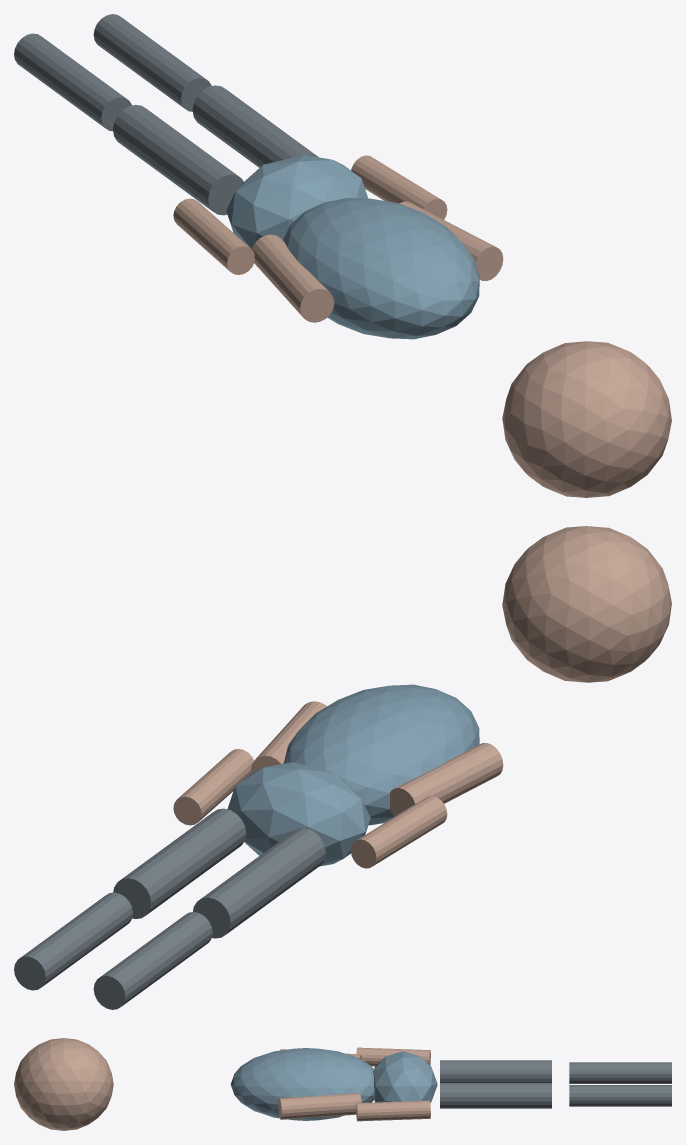
The model's file is child-medium.glb.
3 renders of one model, top to bottom at view 1: azimuth 30°, elevation 25°; view 2: azimuth 150°, elevation 25°; view 3: azimuth 270°, elevation 25°, orthographic. The views are drawn at different scales.
Parts seen in each view (by area): view 1: head, torso, pelvis, left_thigh, right_thigh, left_lower_leg, right_lower_leg, left_upper_arm, left_forearm, right_forearm, right_upper_arm; view 2: head, torso, pelvis, right_thigh, left_thigh, right_lower_leg, left_lower_leg, left_upper_arm, left_forearm, right_forearm, right_upper_arm; view 3: head, torso, right_thigh, pelvis, left_thigh, left_lower_leg, right_lower_leg, right_upper_arm, right_forearm, left_forearm.
Part boxes in pixels (bbox=[...]): head: bbox=[502, 341, 671, 497]; torso: bbox=[283, 198, 479, 339]; pelvis: bbox=[226, 154, 368, 248]; left_thigh: bbox=[113, 105, 243, 215]; right_thigh: bbox=[192, 85, 318, 167]; left_lower_leg: bbox=[14, 33, 132, 131]; right_lower_leg: bbox=[93, 14, 211, 111]; left_upper_arm: bbox=[252, 234, 334, 322]; left_forearm: bbox=[173, 198, 254, 274]; right_forearm: bbox=[351, 155, 447, 219]; right_upper_arm: bbox=[399, 201, 503, 280]; head: bbox=[502, 526, 671, 682]; torso: bbox=[283, 684, 479, 825]; pelvis: bbox=[227, 762, 370, 866]; right_thigh: bbox=[113, 808, 246, 918]; left_thigh: bbox=[193, 828, 325, 938]; right_lower_leg: bbox=[14, 892, 132, 990]; left_lower_leg: bbox=[93, 912, 212, 1009]; left_upper_arm: bbox=[390, 743, 503, 816]; left_forearm: bbox=[350, 796, 447, 868]; right_forearm: bbox=[173, 749, 253, 825]; right_upper_arm: bbox=[251, 701, 326, 773]; head: bbox=[14, 1038, 113, 1130]; torso: bbox=[230, 1048, 374, 1120]; right_thigh: bbox=[440, 1083, 551, 1108]; pelvis: bbox=[373, 1051, 437, 1102]; left_thigh: bbox=[440, 1060, 551, 1082]; left_lower_leg: bbox=[569, 1062, 671, 1083]; right_lower_leg: bbox=[569, 1085, 671, 1106]; right_upper_arm: bbox=[278, 1093, 361, 1119]; right_forearm: bbox=[356, 1100, 430, 1121]; left_forearm: bbox=[356, 1047, 430, 1066].
Bounding box in the file's own units: 1.08 × 0.6624 × 4.75.
